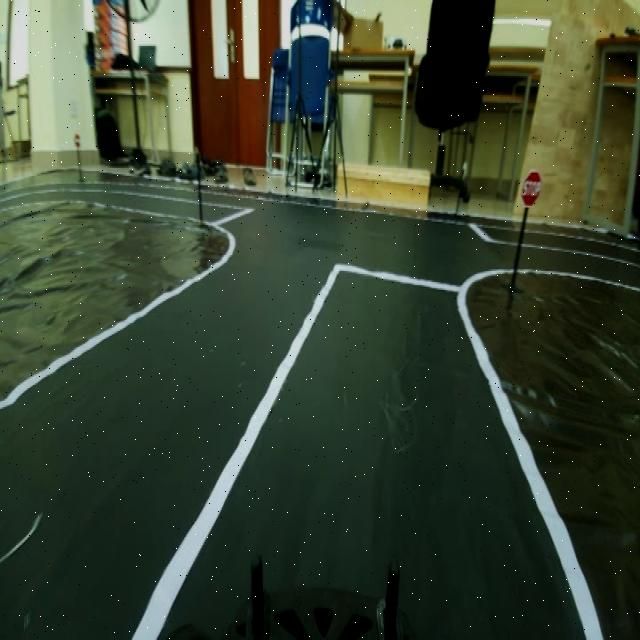stop: (518, 165, 544, 215)
